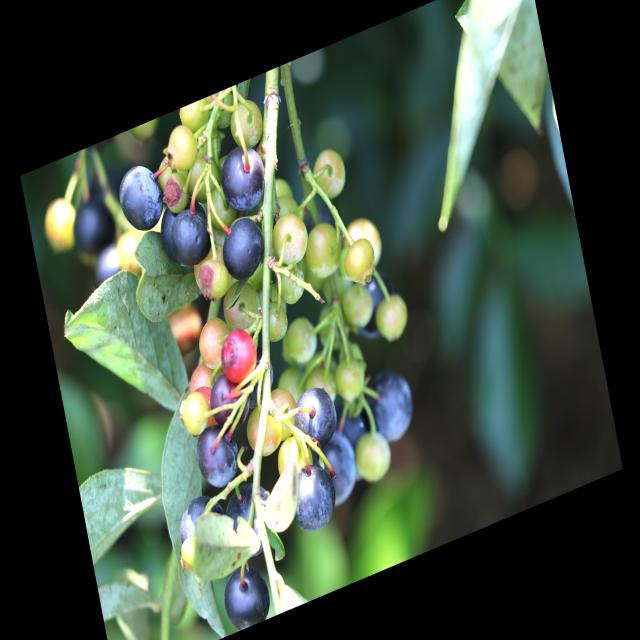blueberry: (362, 358, 419, 449), (222, 475, 278, 564), (157, 191, 215, 271), (114, 154, 166, 240), (219, 556, 274, 634), (288, 457, 340, 536), (218, 140, 270, 216), (217, 211, 268, 286), (354, 265, 398, 349), (316, 428, 360, 510), (192, 418, 240, 492), (291, 377, 339, 449), (71, 194, 119, 259), (176, 489, 227, 543)
blueberry-halfripe: (215, 320, 263, 390), (186, 360, 221, 434)
blueberry-unripe: (301, 210, 350, 288), (35, 189, 83, 265), (216, 270, 267, 338), (348, 422, 397, 491), (266, 204, 314, 274), (240, 397, 288, 464), (224, 88, 269, 156), (272, 421, 320, 484), (310, 139, 353, 205), (337, 234, 380, 293), (193, 241, 235, 301), (162, 116, 202, 177), (340, 276, 380, 337), (176, 382, 214, 444), (268, 380, 304, 444), (184, 146, 223, 205), (193, 312, 234, 368), (283, 309, 321, 368), (330, 349, 370, 404), (270, 257, 310, 311), (374, 291, 412, 345), (158, 167, 192, 216), (262, 296, 294, 348)
